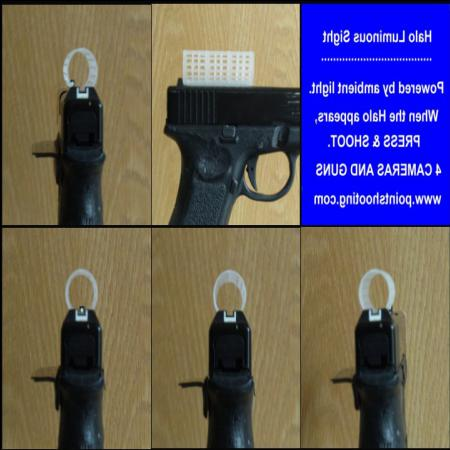Pistol: (162, 85, 300, 221), (29, 301, 107, 447), (178, 302, 254, 444), (32, 78, 105, 223), (337, 299, 409, 446)
